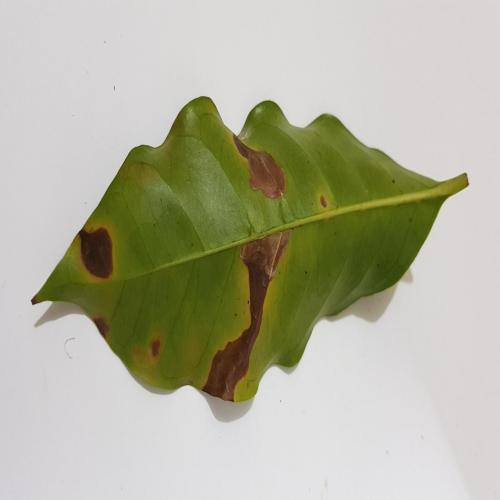leaf: (233, 137, 286, 199)
